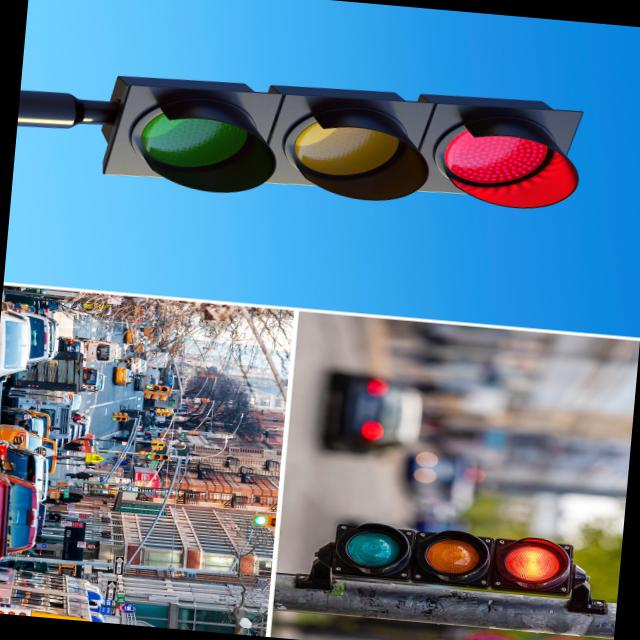green-lights: (132, 107, 255, 175), (341, 528, 406, 568), (251, 514, 268, 526), (144, 452, 155, 459)
red-lights: (436, 114, 556, 191), (496, 534, 568, 586)
yellow-lights: (287, 114, 402, 184), (422, 530, 487, 577)
